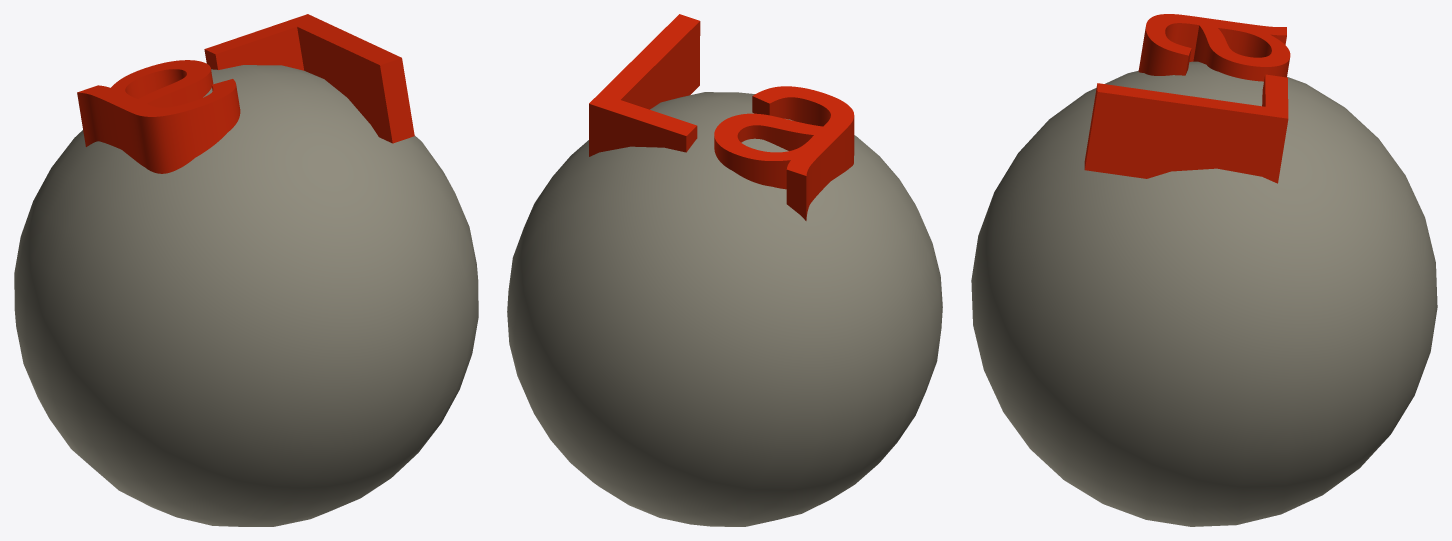
3 renders of one model, left to right at view 1: azimuth 30°, elevation 25°; view 2: azimuth 150°, elevation 25°; view 3: azimuth 270°, elevation 25°, orthographic. The views are drawn at different scales.
Visible parts, largest first — view 1: La; view 2: La; view 3: La.
Part boxes in pixels (box(x1,y1,x2,y2)): La: box(14, 14, 478, 526); La: box(507, 14, 942, 526); La: box(971, 14, 1437, 526).
Size of the model in its own units: 38.67 by 42.35 by 38.67.
